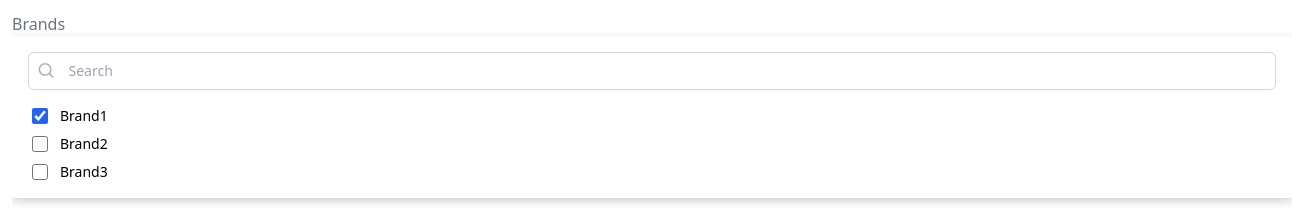
Test: Brand component › filters brands based on search term
// Simulate typing in the search input
Type "Brand1" into the field with placeholder "Search".
click(668, 71); type("Brand1")  # box [68, 61, 1267, 81]
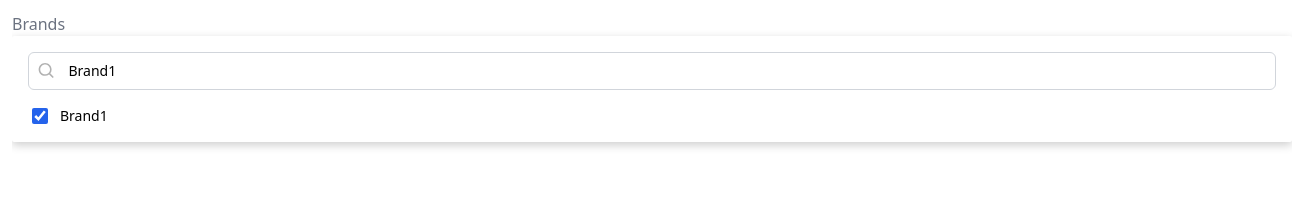
Expected: the list item "Brand1" is shown, [28, 106, 108, 125]
Expected: the list item "Brand2" is gone
Expected: the list item "Brand3" is gone
